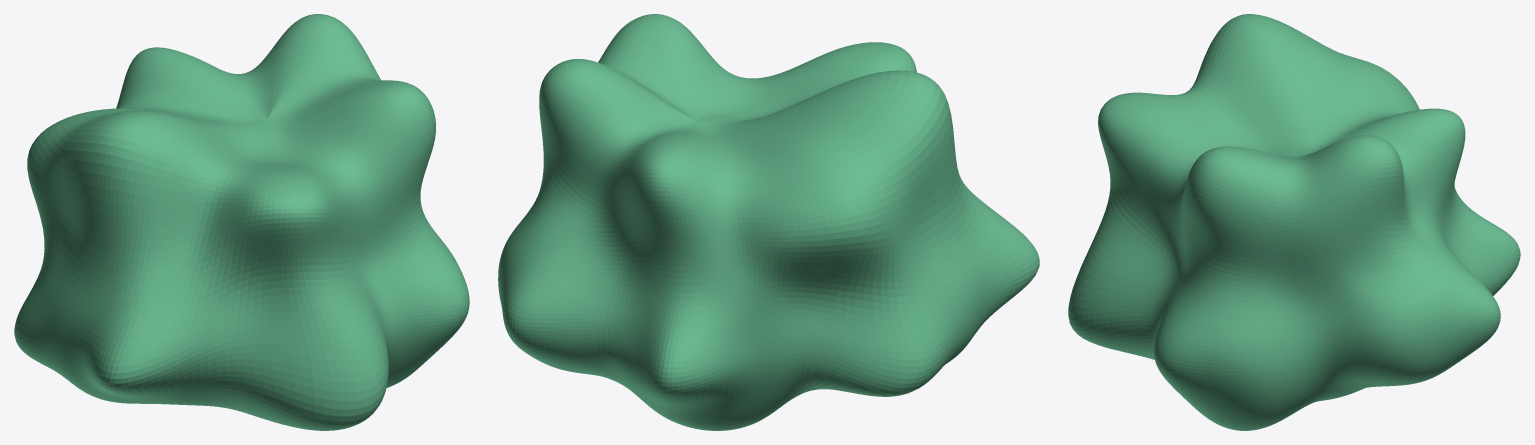
File: кусты.fbx
3 renders of one model, left to right at view 1: azimuth 30°, elevation 25°; view 2: azimuth 150°, elevation 25°; view 3: azimuth 270°, elevation 25°, orthographic. The views are drawn at different scales.
Visible parts, largest first — view 1: Sphere; view 2: Sphere; view 3: Sphere.
Boxes of the visible parts, x1,y1,x2,y2 form: Sphere: (14, 14, 469, 430); Sphere: (498, 14, 1039, 430); Sphere: (1068, 14, 1520, 430).
Size of the model in its own units: 324 by 254 by 348.
